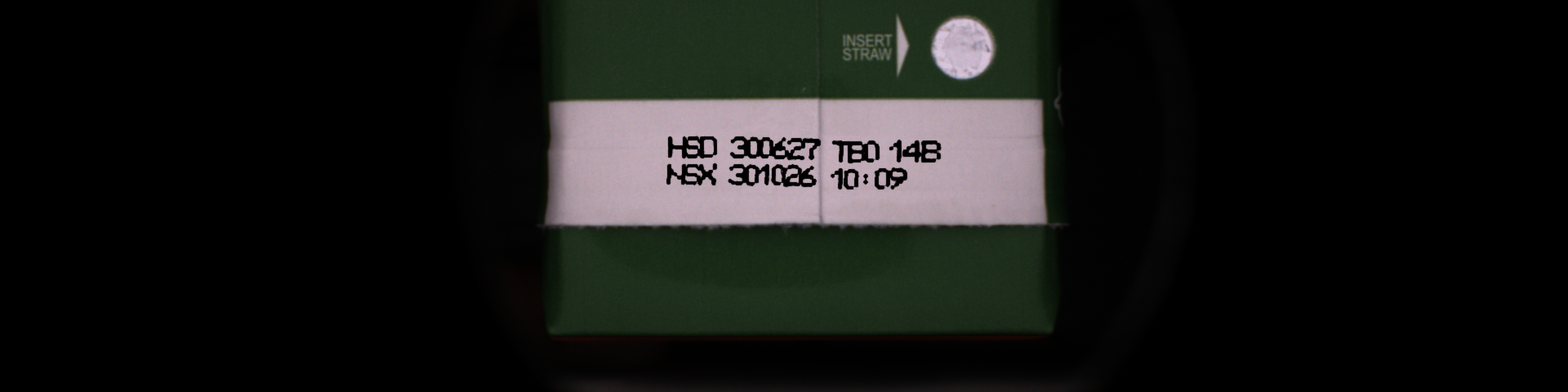date: (918, 137, 944, 166), (900, 136, 925, 165), (800, 135, 824, 163), (681, 133, 704, 162), (697, 160, 720, 189), (662, 161, 687, 187), (665, 133, 688, 161), (828, 137, 851, 165), (797, 162, 820, 190), (886, 165, 909, 193), (785, 134, 807, 162), (727, 161, 749, 189), (781, 161, 803, 189), (846, 138, 867, 166), (728, 133, 749, 160), (770, 135, 790, 163), (861, 138, 882, 164), (698, 133, 718, 160), (887, 137, 905, 166), (681, 161, 701, 187), (872, 166, 891, 193), (744, 134, 762, 162), (743, 160, 761, 188), (769, 161, 787, 189), (842, 166, 861, 191), (829, 166, 846, 193), (758, 135, 774, 162), (757, 162, 773, 189), (859, 167, 873, 190)
